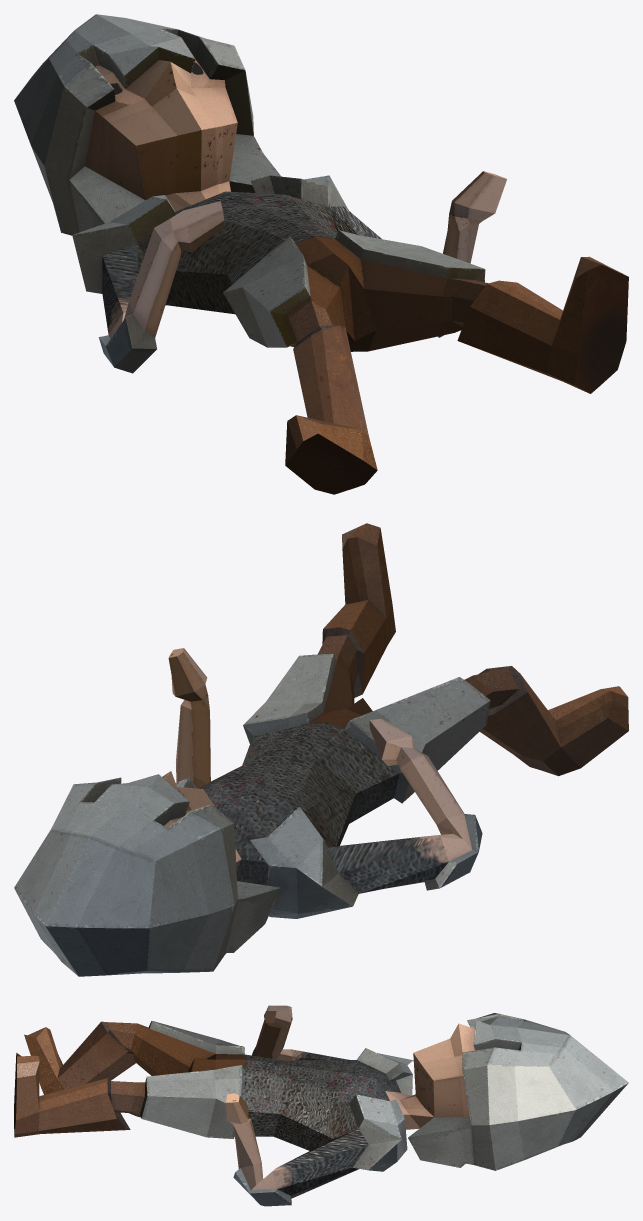
File: Walk_Soldier_22.obj
3 renders of one model, top to bottom at view 1: azimuth 30°, elevation 25°; view 2: azimuth 150°, elevation 25°; view 3: azimuth 270°, elevation 25°, orthographic. The views are drawn at different scales.
Visible parts, largest first — view 1: Soldado_LowPolySTD; view 2: Soldado_LowPolySTD; view 3: Soldado_LowPolySTD.
Part boxes in pixels (bbox=[...]): Soldado_LowPolySTD: bbox=[14, 14, 628, 494]; Soldado_LowPolySTD: bbox=[14, 523, 628, 976]; Soldado_LowPolySTD: bbox=[14, 1005, 628, 1206].
Size of the model in its own units: 0.7547 by 0.4137 by 1.6.
